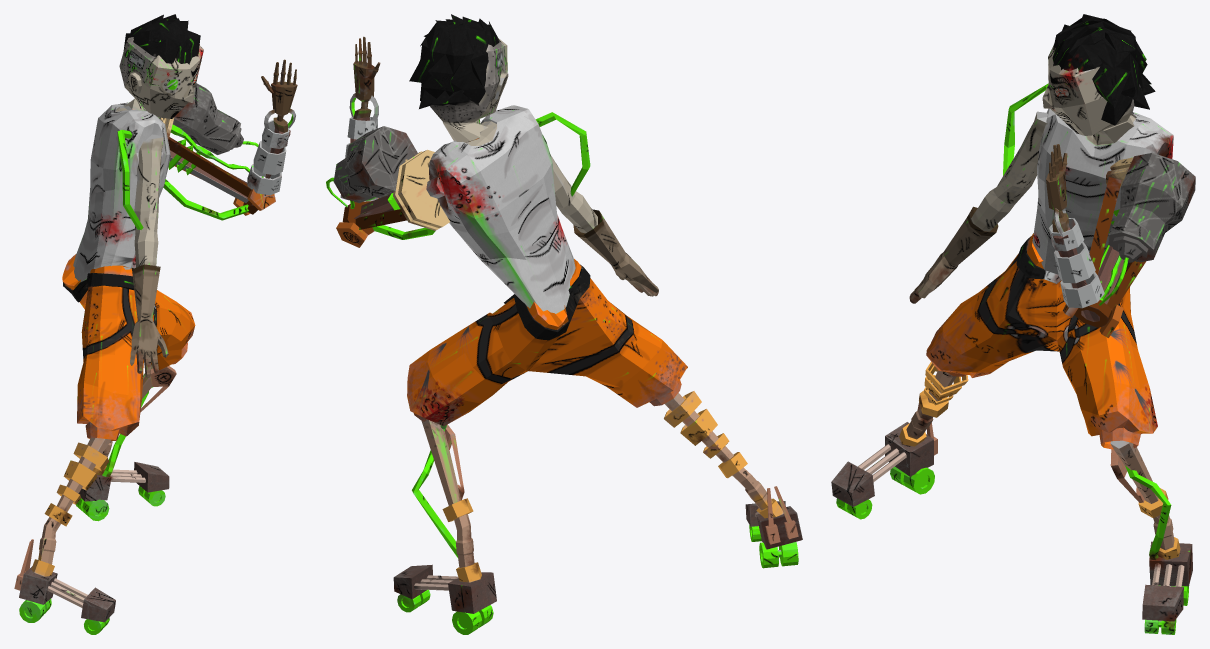
Rendered from CyborgFINALAnimation_000054.obj.
3 renders of one model, left to right at view 1: azimuth 30°, elevation 25°; view 2: azimuth 150°, elevation 25°; view 3: azimuth 270°, elevation 25°, orthographic. The views are drawn at different scales.
Visible parts, largest first — view 1: CyborgMesh_Cube.002; view 2: CyborgMesh_Cube.002; view 3: CyborgMesh_Cube.002.
Part boxes in pixels (x1,y1,x2,y2): CyborgMesh_Cube.002: (14,14,297,634); CyborgMesh_Cube.002: (326,14,802,634); CyborgMesh_Cube.002: (831,14,1195,634).
Bounding box in the file's own units: 6.04 × 8.65 × 4.7.
